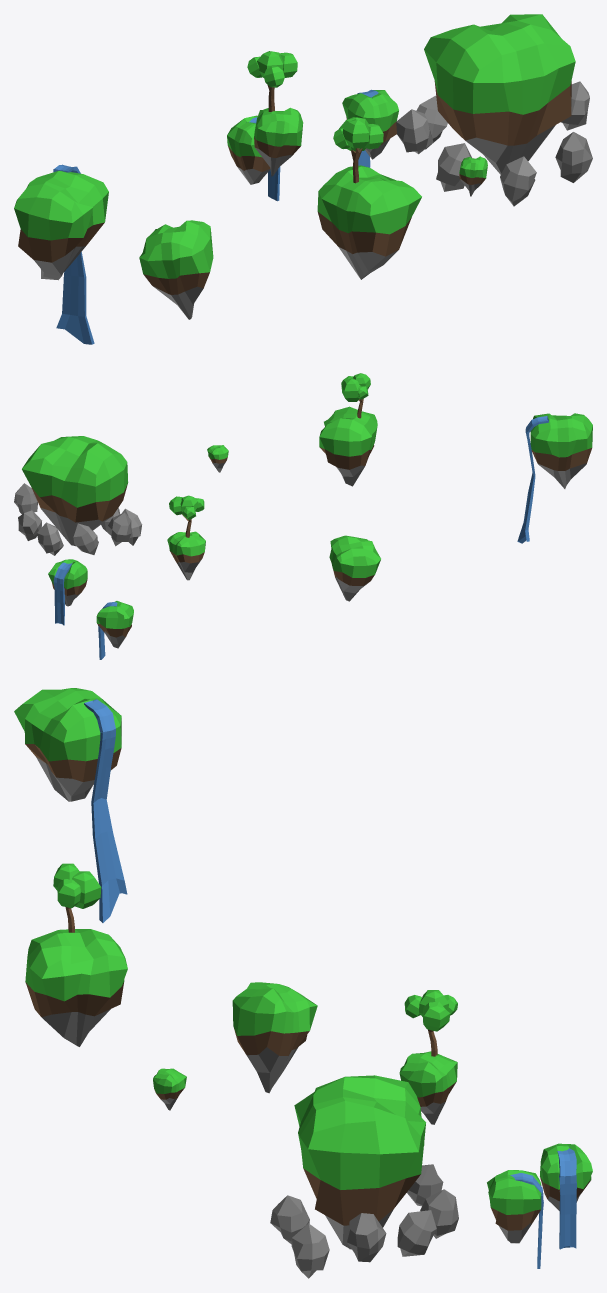
File: Floating island Low polly.fbx
The picture shows the model from 3 angles, top to bottom: view 1: azimuth 30°, elevation 25°; view 2: azimuth 150°, elevation 25°; view 3: azimuth 270°, elevation 25°; orthographic projection. The views are drawn at different scales.
Visible parts, largest first — view 1: Cube.003, Cube.012, Cube.015, Cube.017, Cube.002, Cube.018, Cube, Cube.014, Cube.011, Cube.010, Cube.004, Cube.009 (+4 smaller); view 2: Cube.003, Cube.015, Cube.012, Cube.017, Cube.002, Cube.014, Cube, Cube.018, Cube.001, Cube.008, Cube.005, Cube.004 (+3 smaller); view 3: Cube.003, Cube.012, Cube.015, Cube.017, Cube.018, Cube, Cube.002, Cube.014, Cube.013, Cube.011, Cube.007, Cube.006 (+4 smaller).
Part boxes in pixels (left/top/right/bottom): Cube.003: left=424, top=14, right=575, bottom=174; Cube.012: left=317, top=165, right=421, bottom=279; Cube.015: left=14, top=170, right=108, bottom=280; Cube.017: left=139, top=220, right=213, bottom=319; Cube.002: left=254, top=107, right=303, bottom=176; Cube.018: left=53, top=164, right=94, bottom=344; Cube: left=342, top=90, right=398, bottom=159; Cube.014: left=227, top=115, right=270, bottom=184; Cube.011: left=555, top=132, right=592, bottom=182; Cube.010: left=500, top=156, right=536, bottom=206; Cube.004: left=396, top=109, right=433, bottom=154; Cube.009: left=436, top=143, right=471, bottom=191; Cube.003: left=22, top=436, right=128, bottom=546; Cube.015: left=530, top=413, right=592, bottom=488; Cube.012: left=319, top=406, right=377, bottom=486; Cube.017: left=329, top=535, right=380, bottom=601; Cube.002: left=167, top=531, right=205, bottom=580; Cube.014: left=96, top=601, right=133, bottom=648; Cube: left=48, top=559, right=87, bottom=606; Cube.018: left=517, top=416, right=548, bottom=543; Cube.001: left=53, top=562, right=72, bottom=625; Cube.008: left=37, top=522, right=63, bottom=555; Cube.005: left=73, top=523, right=98, bottom=554; Cube.004: left=108, top=512, right=131, bottom=546; Cube.003: left=294, top=1075, right=425, bottom=1249; Cube.012: left=25, top=929, right=127, bottom=1046; Cube.015: left=14, top=688, right=121, bottom=801; Cube.017: left=232, top=982, right=317, bottom=1093; Cube.018: left=84, top=699, right=127, bottom=922; Cube: left=487, top=1170, right=541, bottom=1243; Cube.002: left=399, top=1051, right=457, bottom=1124; Cube.014: left=540, top=1143, right=592, bottom=1210; Cube.013: left=557, top=1148, right=576, bottom=1249; Cube.011: left=291, top=1223, right=329, bottom=1278; Cube.007: left=347, top=1213, right=386, bottom=1262; Cube.006: left=397, top=1210, right=436, bottom=1256.
Size of the model in its own units: 4516 by 1807 by 2968.
